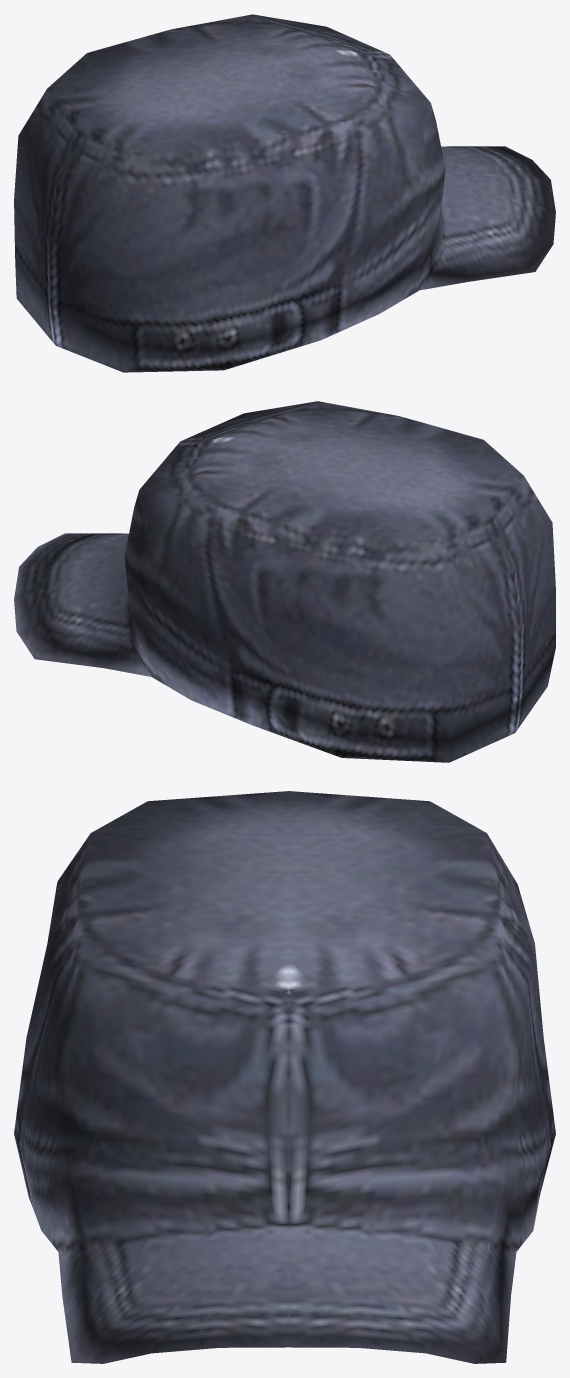
File: hat_0400048.FBX
The picture shows the model from 3 angles, top to bottom: view 1: azimuth 30°, elevation 25°; view 2: azimuth 150°, elevation 25°; view 3: azimuth 270°, elevation 25°; orthographic projection. The views are drawn at different scales.
Parts seen in each view (by area): view 1: hat_0400048; view 2: hat_0400048; view 3: hat_0400048.
Boxes of the visible parts, x1,y1,x2,y2 form: hat_0400048: [14, 14, 555, 372]; hat_0400048: [14, 401, 555, 762]; hat_0400048: [14, 791, 555, 1363].
Size of the model in its own units: 36.82 by 16.9 by 23.54.
